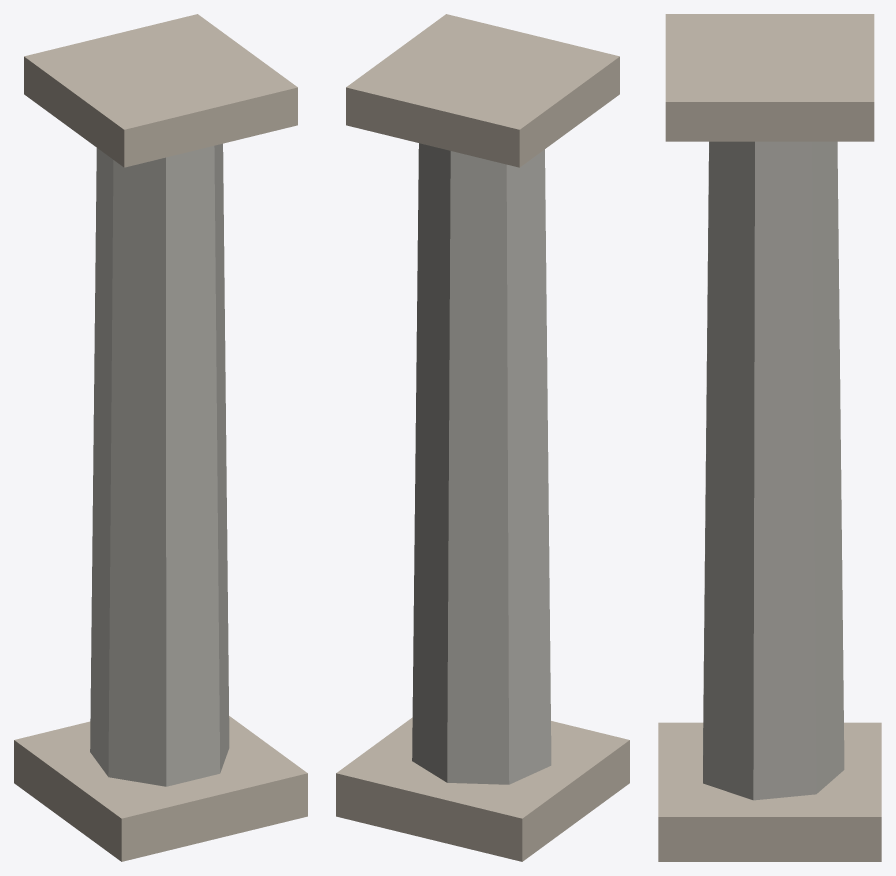
Rendered from column_v23.glb.
3 renders of one model, left to right at view 1: azimuth 30°, elevation 25°; view 2: azimuth 150°, elevation 25°; view 3: azimuth 270°, elevation 25°, orthographic. The views are drawn at different scales.
Parts seen in each view (by area): view 1: lod0; view 2: lod0; view 3: lod0.
Part boxes in pixels (x1,y1,x2,y2): lod0: (14,14,307,861); lod0: (336,14,629,861); lod0: (658,14,881,861).
Size of what is drawn, in the model's own units: 0.72 by 2.69 by 0.72.
